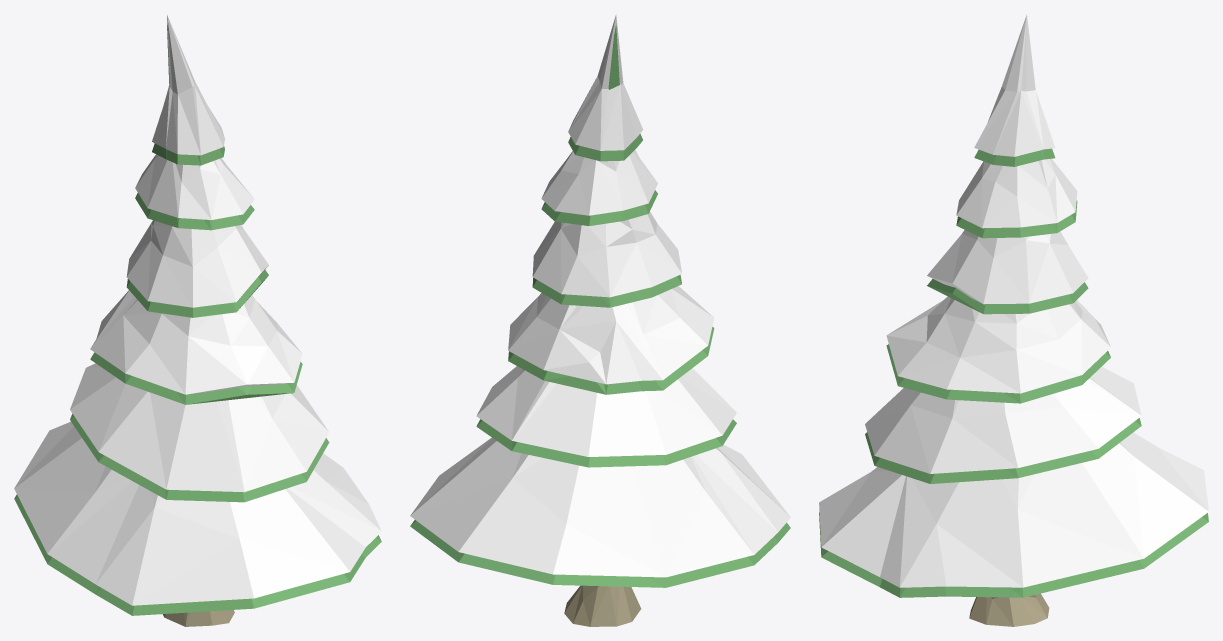
Rendered from tree 1.fbx.
3 renders of one model, left to right at view 1: azimuth 30°, elevation 25°; view 2: azimuth 150°, elevation 25°; view 3: azimuth 270°, elevation 25°, orthographic. The views are drawn at different scales.
Parts seen in each view (by area): view 1: LowPolyFirTree_01; view 2: LowPolyFirTree_01; view 3: LowPolyFirTree_01.
Part boxes in pixels (x1,y1,x2,y2): LowPolyFirTree_01: (14, 15, 381, 626); LowPolyFirTree_01: (410, 14, 790, 626); LowPolyFirTree_01: (819, 14, 1208, 626).
Size of the model in its own units: 400 by 754 by 452.
